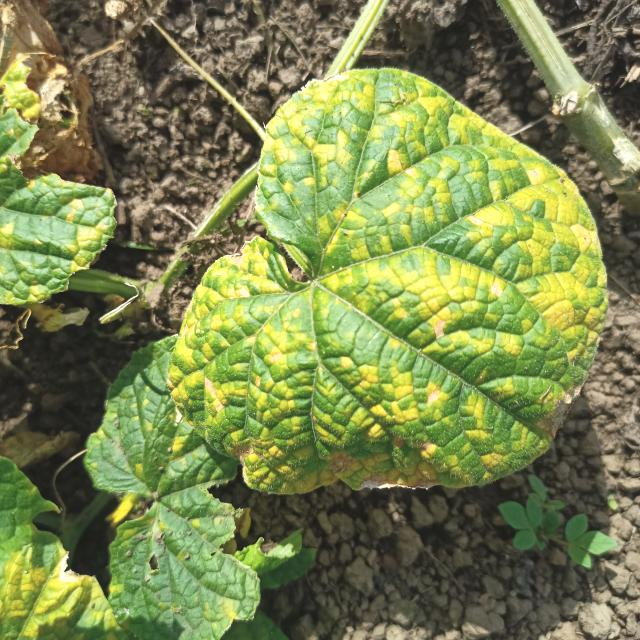disease_cucumber: (172, 79, 598, 485)
